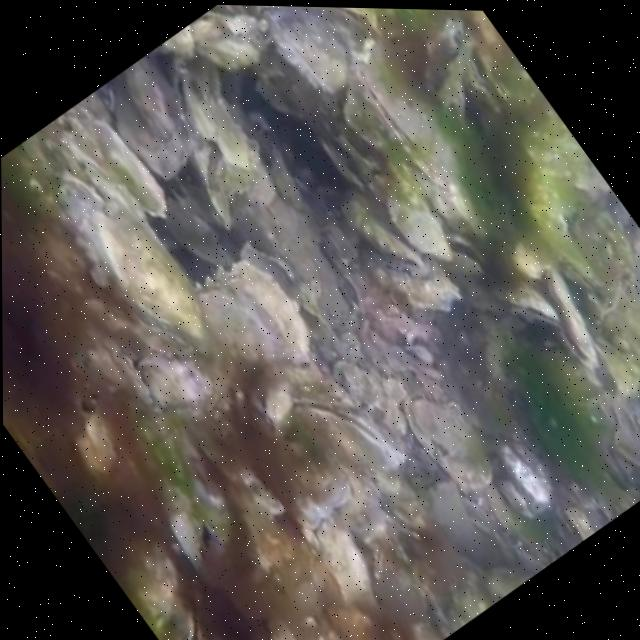Oyster-Closed: (95, 529, 203, 640), (218, 260, 312, 365), (265, 432, 355, 528), (404, 394, 492, 489), (528, 179, 598, 292), (292, 397, 396, 472), (194, 282, 283, 365), (72, 322, 154, 401), (546, 267, 598, 367), (193, 11, 266, 68), (494, 280, 561, 329), (172, 68, 214, 141), (61, 169, 104, 210), (194, 55, 222, 100), (373, 541, 385, 578)
Oyster-Indeterminate: (94, 213, 205, 348), (112, 56, 185, 177), (359, 242, 458, 312), (266, 7, 349, 90), (342, 189, 422, 269), (497, 437, 552, 516), (387, 196, 450, 257), (139, 356, 205, 410), (125, 69, 173, 141)
Oyster-Open: (357, 36, 449, 192), (424, 21, 474, 112), (189, 138, 233, 224), (443, 232, 489, 276), (222, 5, 257, 15)
